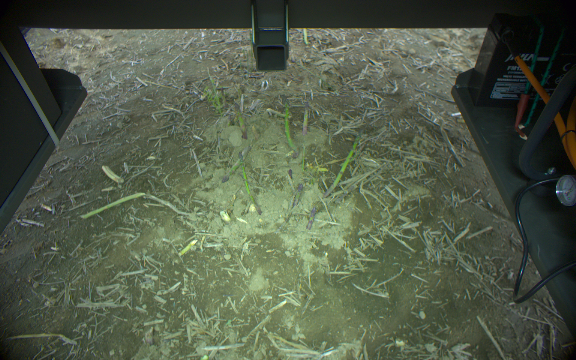aspa: (323, 130, 366, 200), (238, 150, 262, 215), (281, 96, 298, 157), (232, 103, 246, 138), (300, 100, 311, 135), (291, 184, 304, 207), (307, 207, 316, 227)
